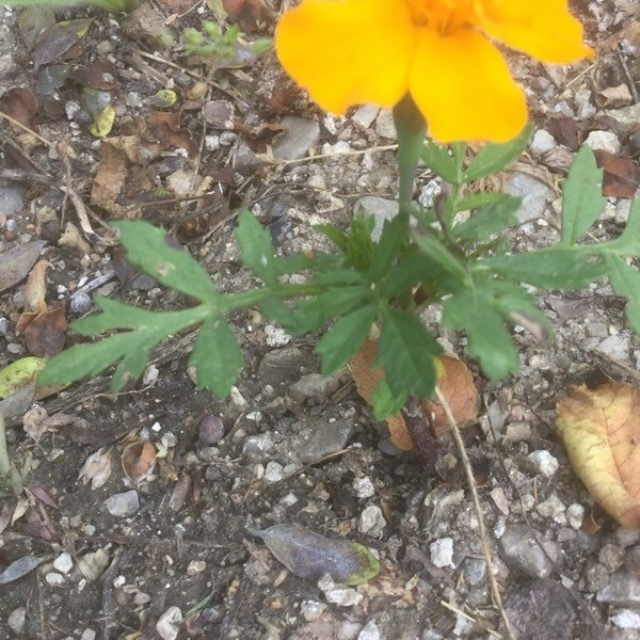obstacle: (265, 17, 599, 410)
